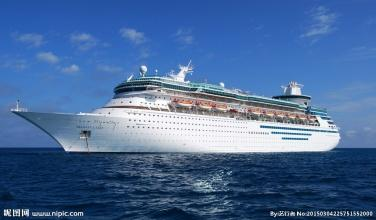youlun: (10, 62, 346, 154)
